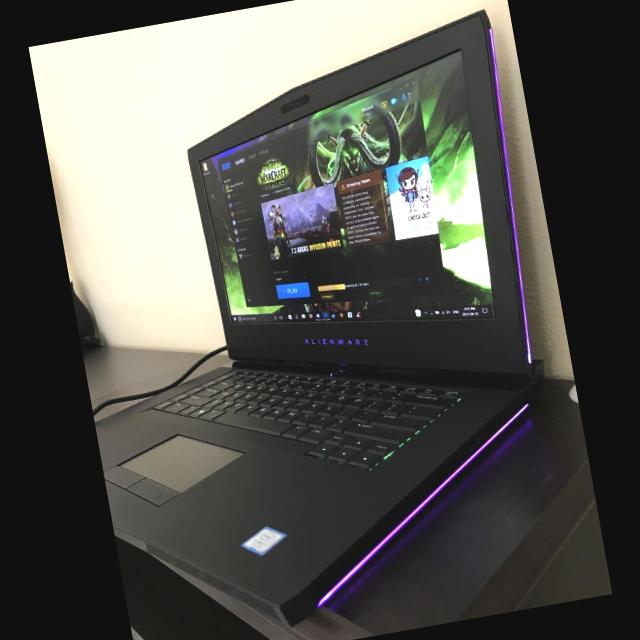laptop: (34, 1, 591, 640)
